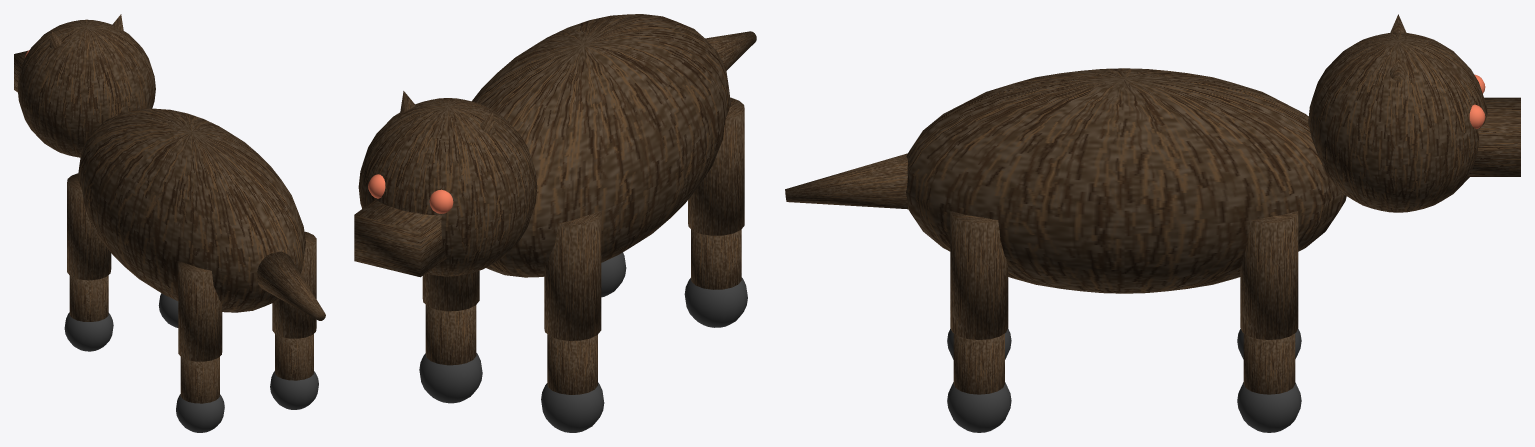
Rendered from cave-hyena.glb.
The picture shows the model from 3 angles, left to right: view 1: azimuth 30°, elevation 25°; view 2: azimuth 150°, elevation 25°; view 3: azimuth 270°, elevation 25°; orthographic projection. The views are drawn at different scales.
Visible parts, largest first — view 1: Body, Head, LegUpper, LegUpper.001, Tail, LegUpper.002, LegLower, LegLower.001, LegLower.002, Paw.001, Paw, Paw.002 (+1 smaller); view 2: Body, Head, LegUpper.001, Snout, LegUpper, LegLower.003, LegLower, LegLower.001, Paw, Paw.003, Paw.001, LegUpper.003 (+3 smaller); view 3: Body, Head, LegUpper.003, LegUpper.002, Tail, Snout, LegLower.003, LegLower.002, Paw.002, Paw.003.
Part boxes in pixels (x1,y1,x2,y2): Body: (77, 108, 305, 312); Head: (17, 19, 155, 157); LegUpper: (178, 261, 222, 361); LegUpper.001: (67, 173, 111, 280); Tail: (257, 251, 325, 320); LegUpper.002: (272, 231, 316, 338); LegLower: (180, 357, 219, 403); LegLower.001: (69, 275, 108, 321); LegLower.002: (275, 334, 313, 380); Paw.001: (64, 312, 113, 351); Paw: (176, 394, 224, 432); Paw.002: (270, 371, 318, 409); Body: (472, 14, 730, 277); Head: (358, 98, 537, 276); LegUpper.001: (544, 211, 601, 340); Snout: (354, 199, 446, 277); LegUpper: (688, 97, 744, 235); LegLower.003: (425, 305, 476, 365); LegLower: (691, 229, 741, 289); LegLower.001: (547, 334, 597, 394); Paw: (684, 277, 747, 327); Paw.003: (419, 353, 482, 403); Paw.001: (541, 382, 604, 432); LegUpper.003: (422, 270, 479, 311); Body: (906, 68, 1346, 293); Head: (1308, 32, 1487, 212); LegUpper.003: (1240, 211, 1298, 339); LegUpper.002: (950, 211, 1008, 339); Tail: (785, 153, 907, 209); Snout: (1468, 97, 1520, 176); LegLower.003: (1243, 333, 1295, 394); LegLower.002: (953, 333, 1004, 394); Paw.002: (947, 382, 1011, 432); Paw.003: (1237, 382, 1301, 432).
Size of the model in its own units: 0.5535 by 0.986 by 1.8.
Materials: 3 (1 with a texture image).
